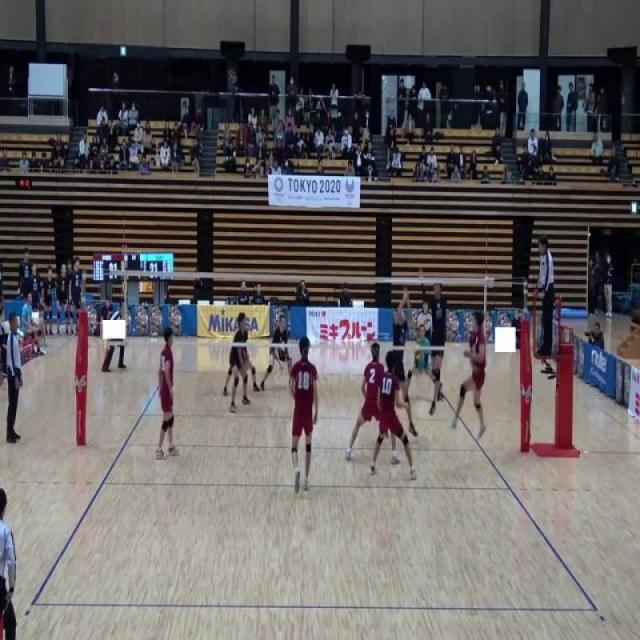volleyball: (413, 345, 422, 359)
